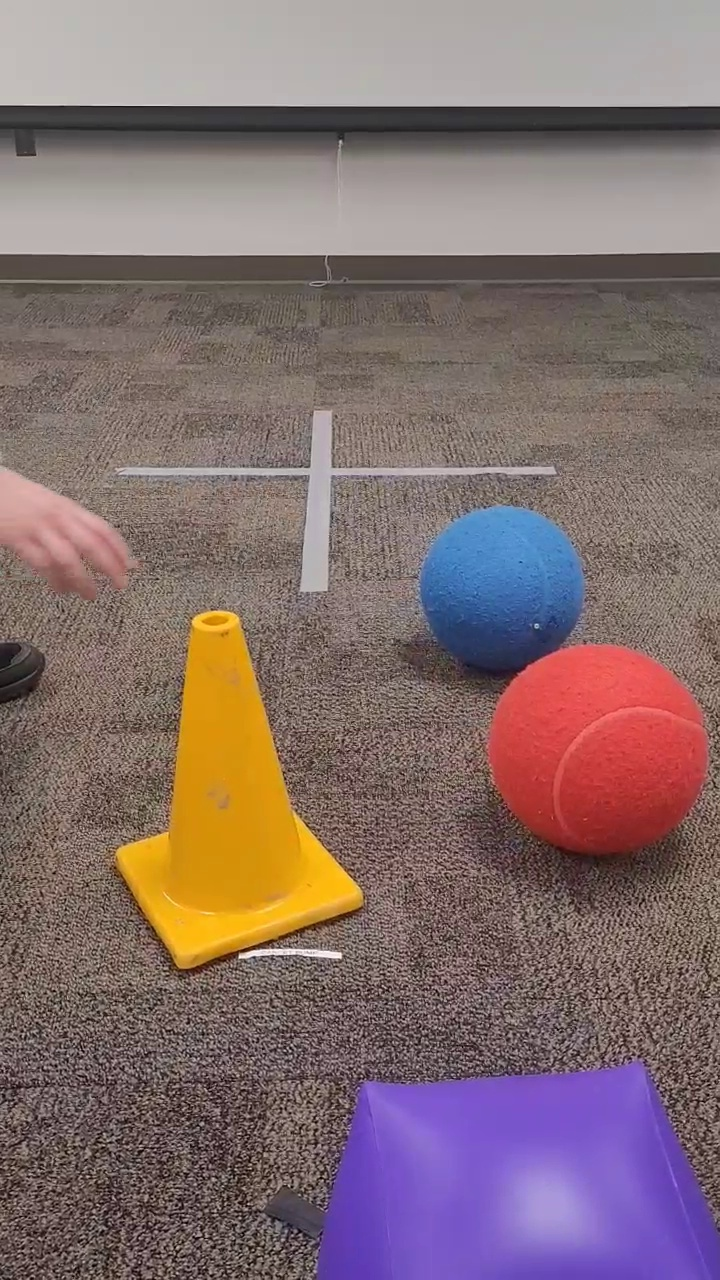ball: (482, 640, 712, 864), (414, 500, 591, 678)
cone: (105, 601, 369, 976)
cube: (309, 1051, 718, 1277)
foot: (1, 631, 53, 710)
hand: (1, 457, 140, 604)
